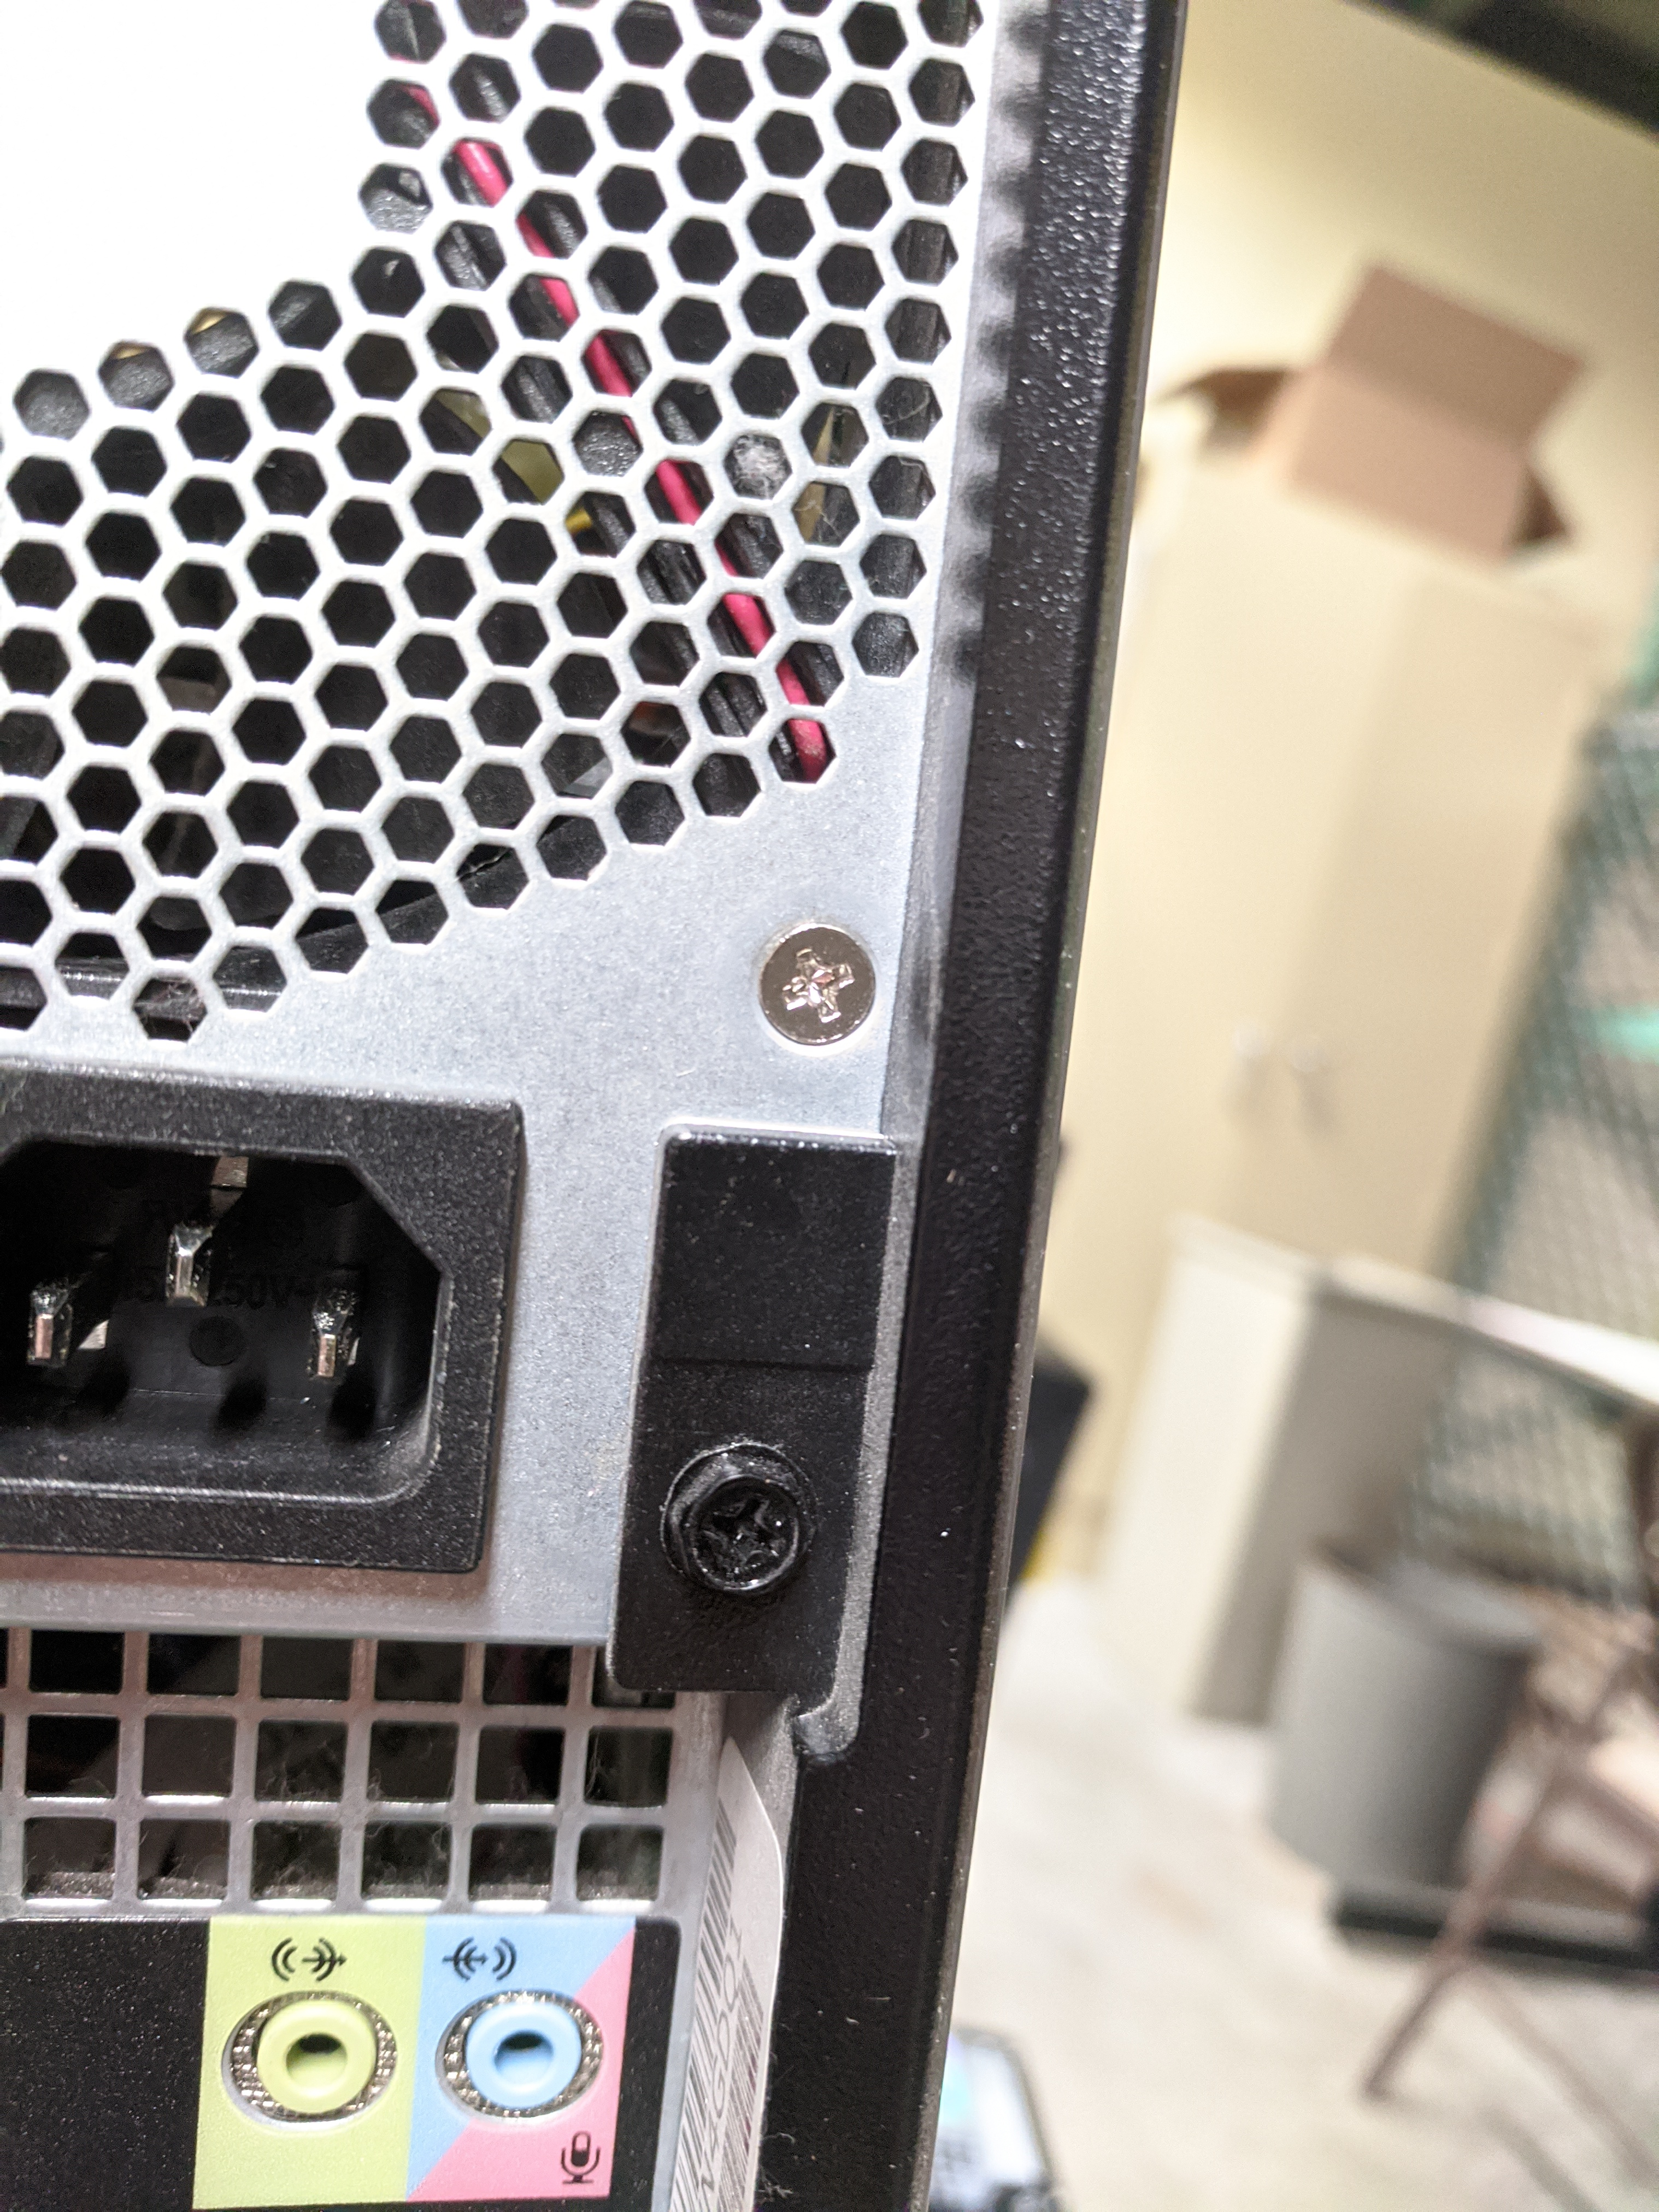cross_recessed_screw: (659, 1454, 802, 1602), (753, 907, 871, 1050)
